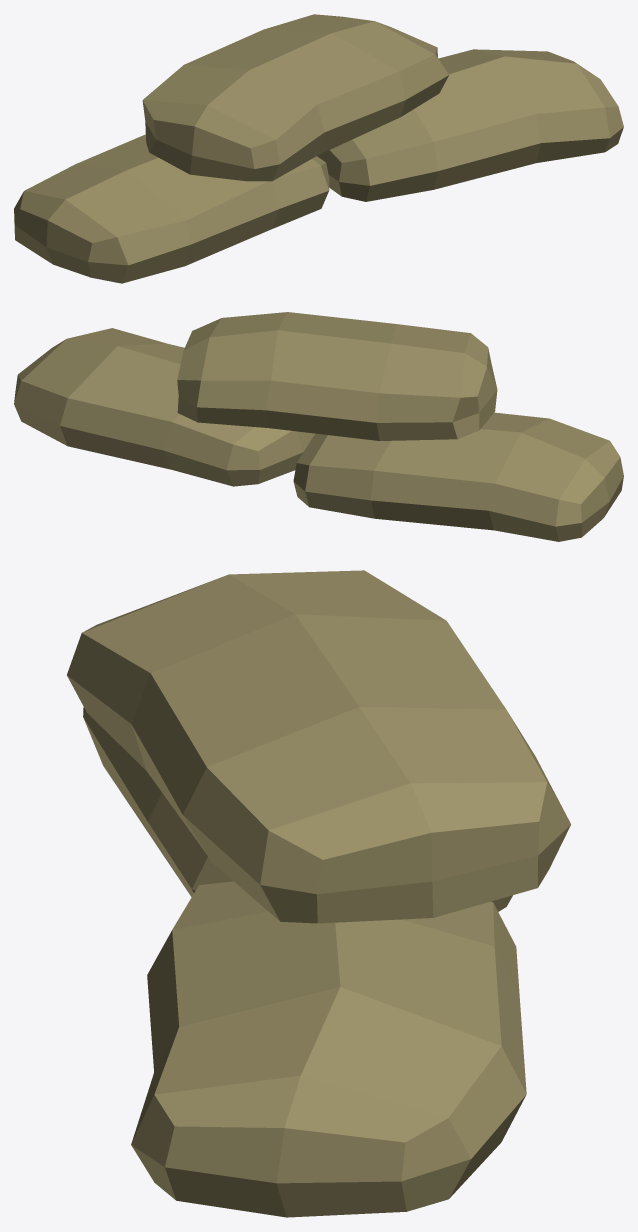
The model's file is Sack_2.fbx.
3 renders of one model, top to bottom at view 1: azimuth 30°, elevation 25°; view 2: azimuth 150°, elevation 25°; view 3: azimuth 270°, elevation 25°, orthographic. The views are drawn at different scales.
Parts seen in each view (by area): view 1: Sack_2; view 2: Sack_2; view 3: Sack_2.
Part boxes in pixels (x1=…): Sack_2: x1=14, y1=14, x2=623, y2=283; Sack_2: x1=14, y1=312, x2=623, y2=541; Sack_2: x1=67, y1=570, x2=570, y2=1217.
Size of the model in its own units: 145 by 35.26 by 56.76.
